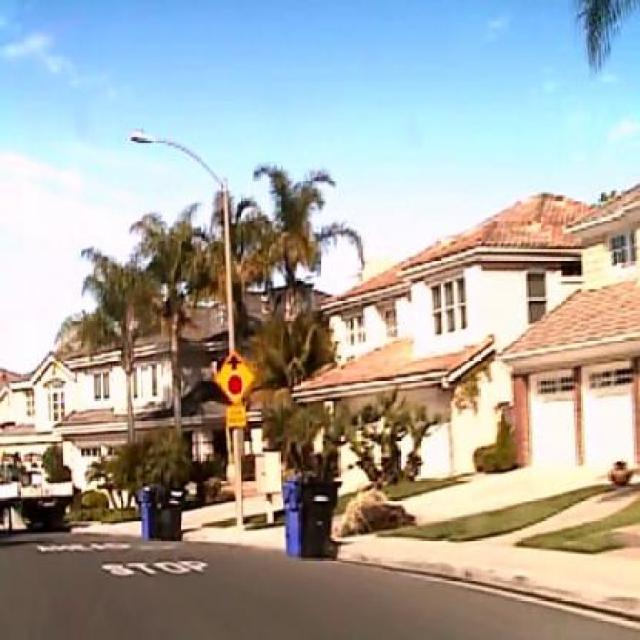stopAhead: (214, 348, 255, 404)
